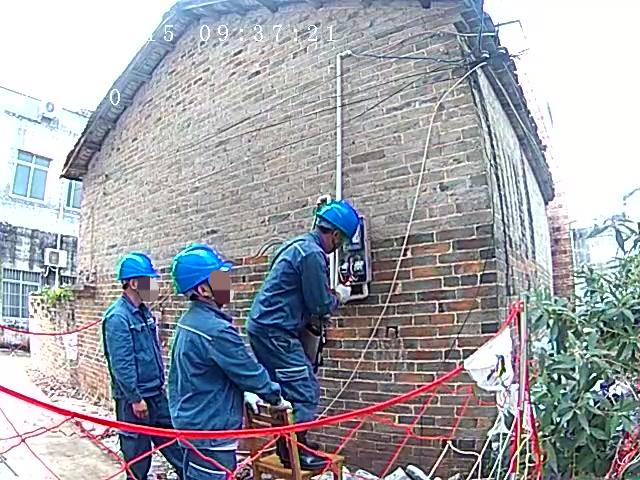halt: (176, 247, 237, 305), (316, 204, 364, 252), (120, 257, 163, 302)
inear: (195, 283, 221, 305), (127, 279, 147, 300), (330, 230, 348, 252)
